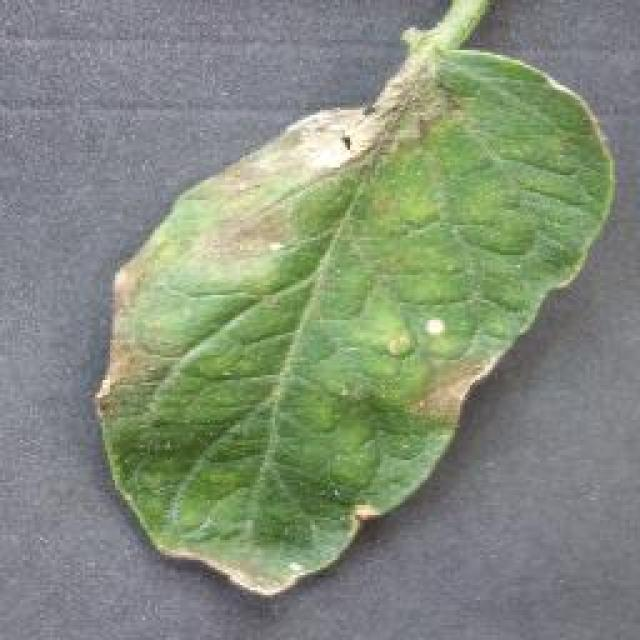Tomato_Late_Blight: (185, 81, 458, 284), (390, 333, 518, 468), (74, 262, 160, 436)
